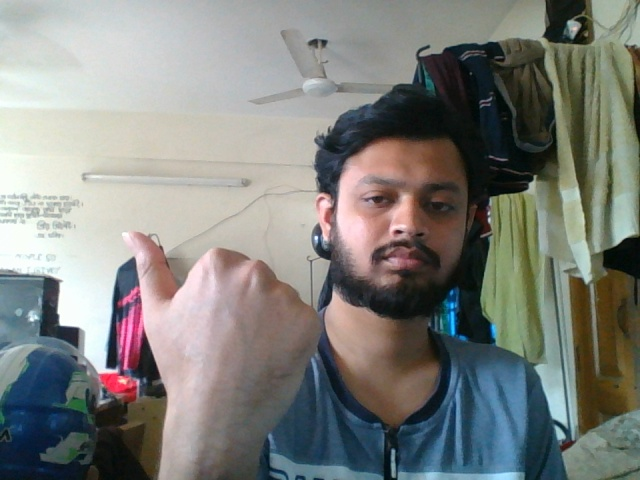do: (108, 211, 325, 465)
